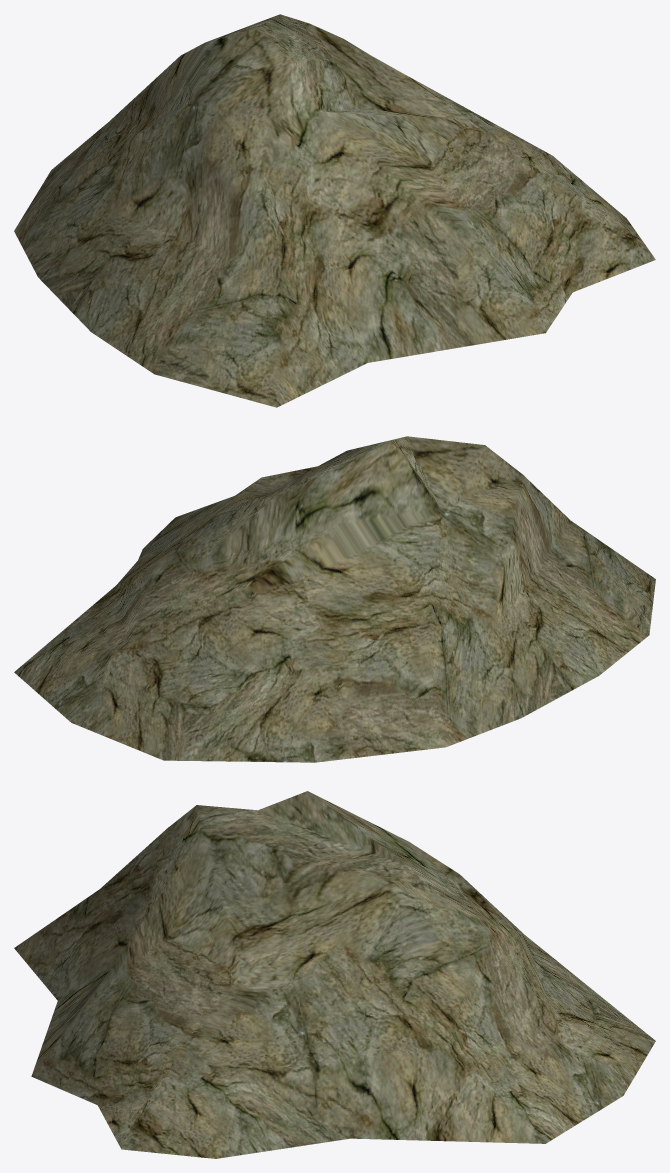
The model's file is rock_plain_white_a2_l1.fbx.
3 renders of one model, top to bottom at view 1: azimuth 30°, elevation 25°; view 2: azimuth 150°, elevation 25°; view 3: azimuth 270°, elevation 25°, orthographic. The views are drawn at different scales.
Visible parts, largest first — view 1: mesh_node; view 2: mesh_node; view 3: mesh_node.
Part boxes in pixels (x1,y1,x2,y2): mesh_node: (14,14,655,407); mesh_node: (14,436,655,762); mesh_node: (14,791,655,1158).
Size of the model in its own units: 7.37 by 3.15 by 8.35.
